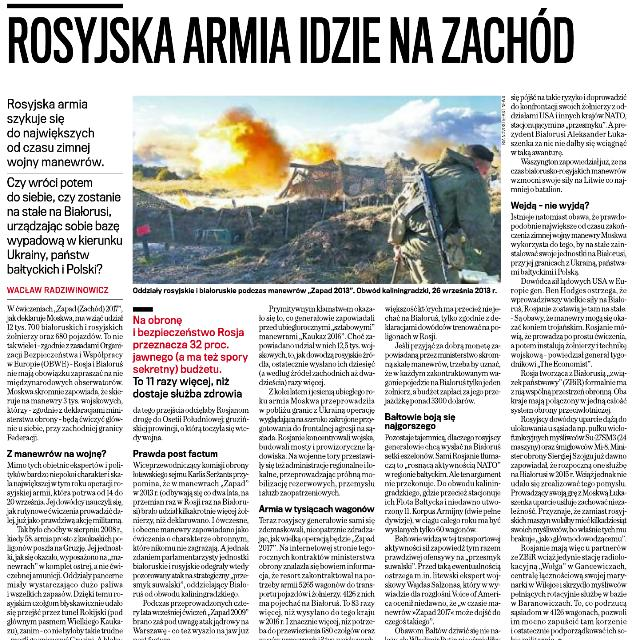author: (3, 284, 116, 296)
body: (510, 92, 632, 640), (4, 302, 128, 640), (384, 300, 506, 640), (257, 304, 379, 640), (132, 306, 254, 640)
caption: (132, 285, 502, 297)
image: (130, 92, 504, 286)
lead: (5, 94, 126, 278)
title: (6, 8, 580, 68)
